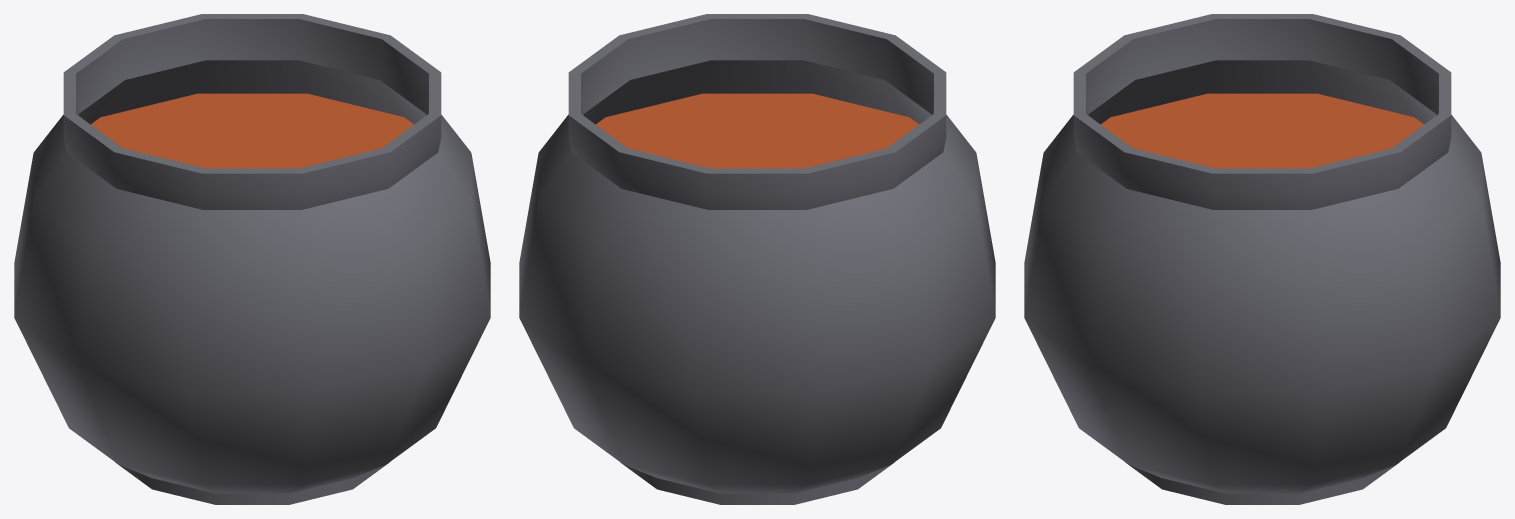
File: Pot_01.fbx
The picture shows the model from 3 angles, left to right: view 1: azimuth 30°, elevation 25°; view 2: azimuth 150°, elevation 25°; view 3: azimuth 270°, elevation 25°; orthographic projection.
Parts seen in each view (by area): view 1: Pot_01_LOD0; view 2: Pot_01_LOD0; view 3: Pot_01_LOD0.
Part boxes in pixels (x1,y1,x2,y2): Pot_01_LOD0: (14,14,490,504); Pot_01_LOD0: (519,14,995,504); Pot_01_LOD0: (1024,14,1500,504).
Size of what is drawn, in the model's own units: 0.2055 by 0.168 by 0.2055.
